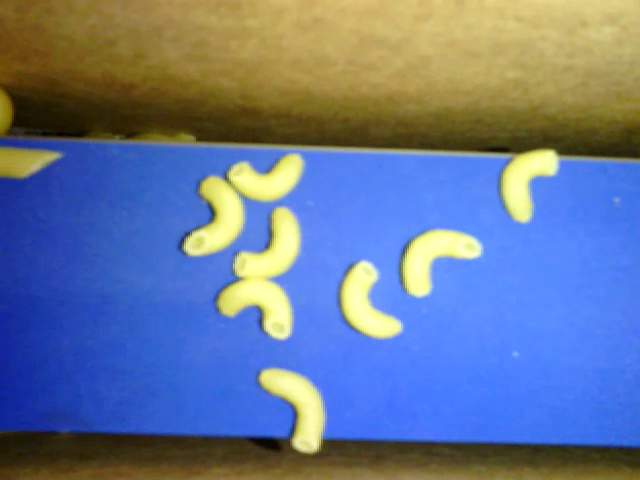elbow: (256, 367, 325, 457), (401, 228, 483, 299), (337, 256, 402, 343), (180, 175, 244, 258), (232, 207, 301, 283), (218, 278, 294, 341), (499, 147, 560, 225), (227, 153, 306, 202)
penne: (2, 146, 64, 179)
